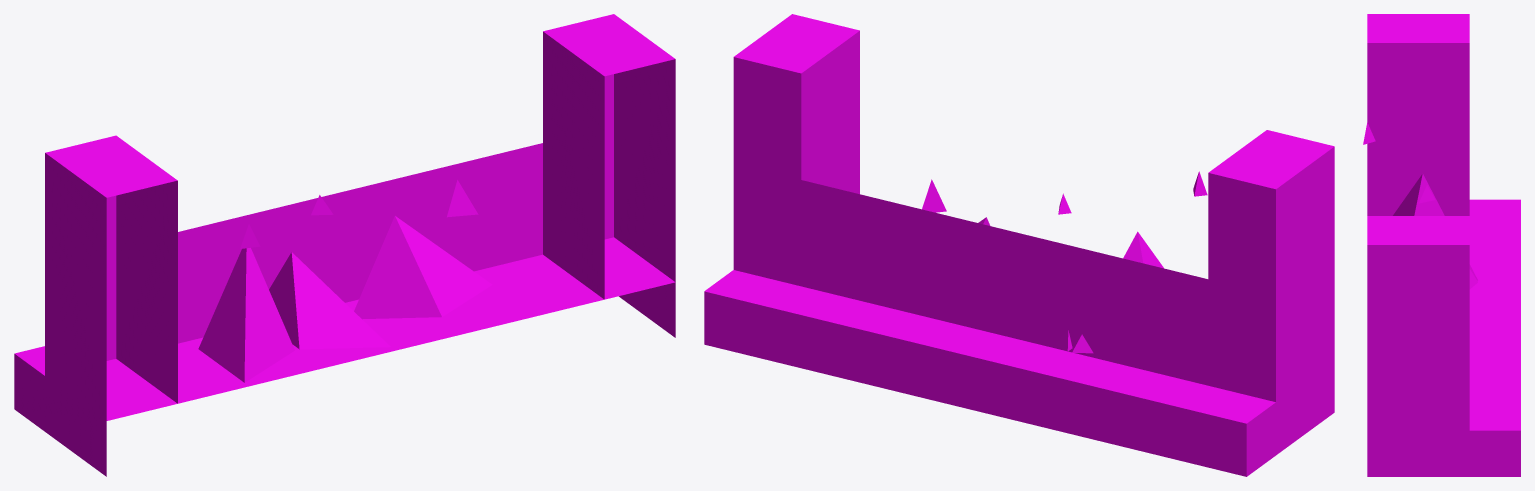
The model's file is fireplacea1.obj.
The picture shows the model from 3 angles, left to right: view 1: azimuth 30°, elevation 25°; view 2: azimuth 150°, elevation 25°; view 3: azimuth 270°, elevation 25°; orthographic projection. The views are drawn at different scales.
Parts seen in each view (by area): view 1: fireplacea1_back, fireplacea1_front; view 2: fireplacea1_back, fireplacea1_front; view 3: fireplacea1_back, fireplacea1_front.
Boxes of the visible parts, box(x1,y1,x2,y2) form: fireplacea1_back: box(14, 14, 675, 476); fireplacea1_front: box(198, 180, 492, 382); fireplacea1_back: box(704, 14, 1334, 476); fireplacea1_front: box(922, 171, 1207, 353); fireplacea1_back: box(1367, 14, 1520, 476); fireplacea1_front: box(1363, 122, 1477, 289).
Size of the model in its own units: 2.56 by 1.2 by 0.74.
